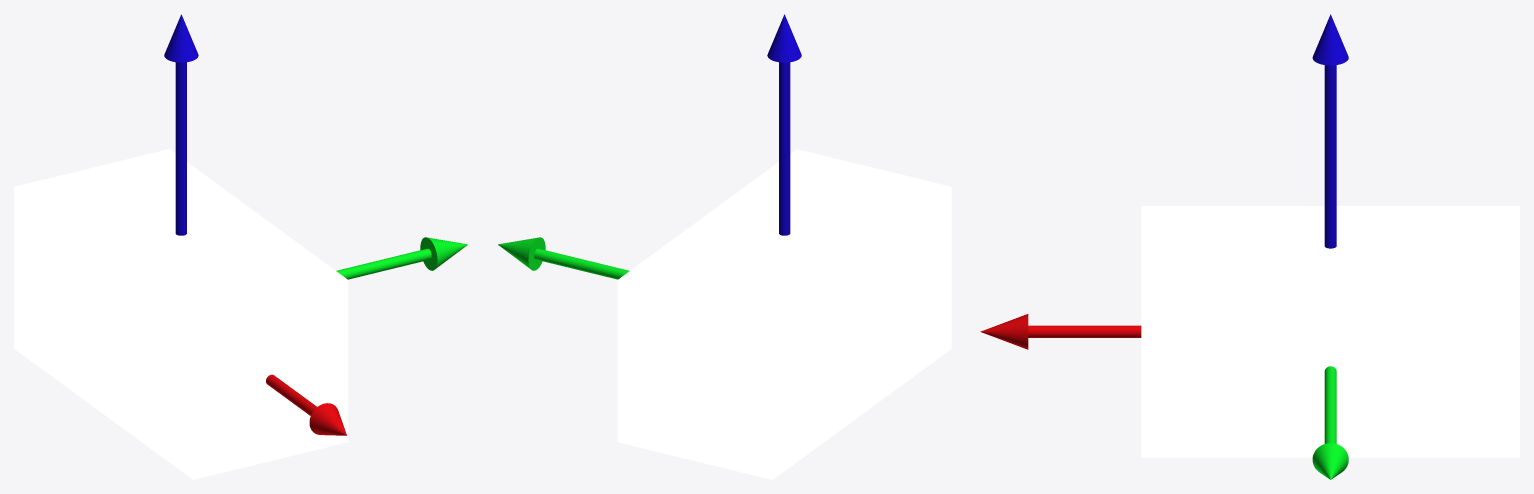
The model's file is satellite_with_axes.glb.
3 views of the same model, side by side, from view 1: azimuth 30°, elevation 25°; view 2: azimuth 150°, elevation 25°; view 3: azimuth 270°, elevation 25° (orthographic). The views are drawn at different scales.
Parts seen in each view (by area): view 1: Cube, Y Axis, X Axis, Z Axis; view 2: Cube, Y Axis, X Axis; view 3: Cube, Y Axis, Z Axis, X Axis.
Part boxes in pixels (box(x1,y1,x2,y2)): Cube: box(14, 149, 348, 479); Y Axis: box(164, 14, 198, 235); X Axis: box(336, 237, 467, 279); Z Axis: box(266, 374, 346, 435); Cube: box(617, 149, 951, 479); Y Axis: box(767, 14, 801, 235); X Axis: box(498, 237, 629, 279); Cube: box(1141, 206, 1519, 457); Y Axis: box(1312, 14, 1348, 248); Z Axis: box(980, 314, 1141, 349); X Axis: box(1312, 366, 1348, 479).
Size of the model in its own units: 0.7365 by 0.7365 by 0.8931.
